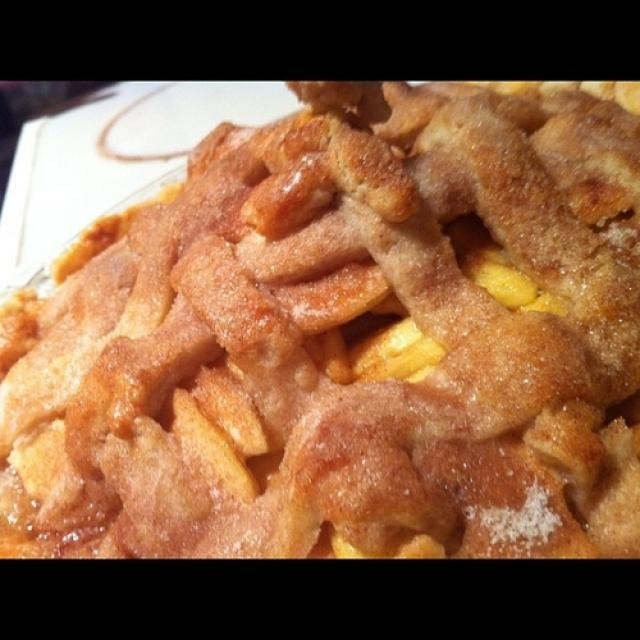Apple: (45, 117, 637, 560)
